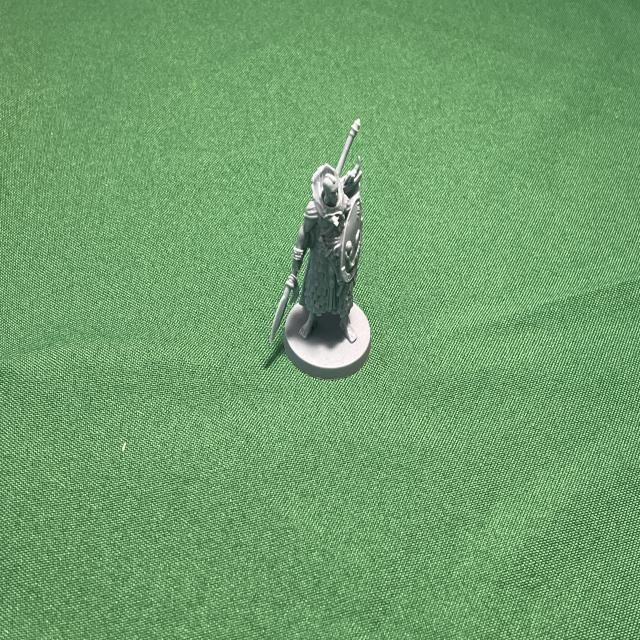isis_follower: (267, 111, 373, 380)
